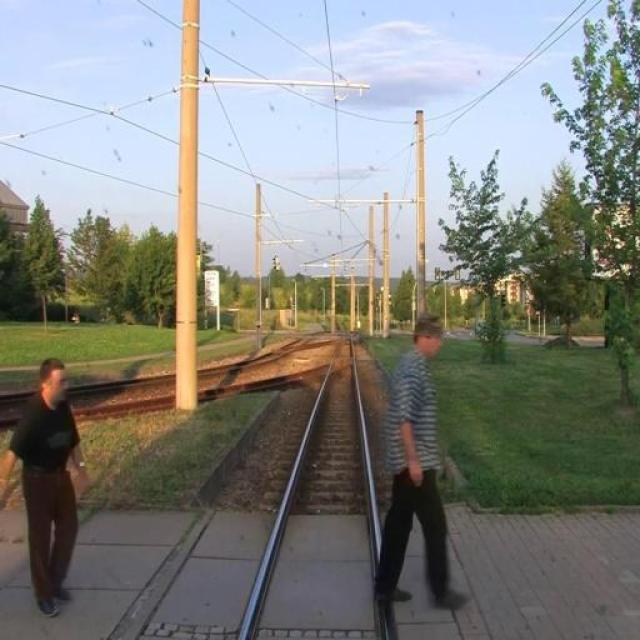people: (372, 311, 474, 613), (3, 352, 102, 602)
